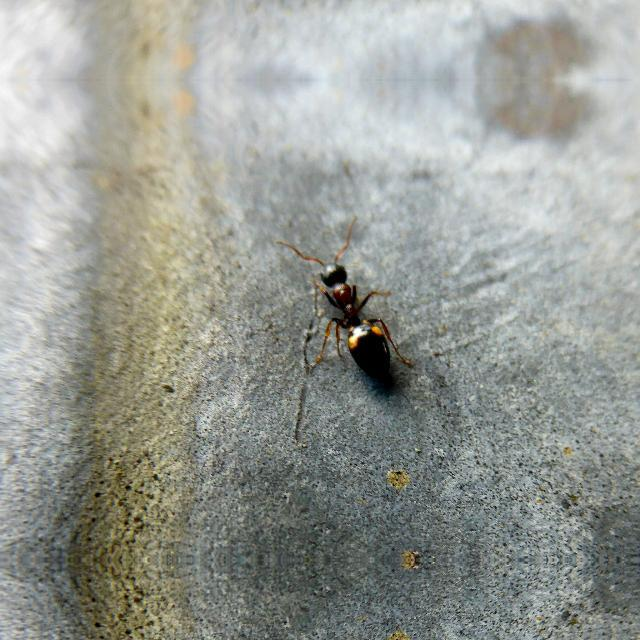Dolichoderus: (278, 230, 416, 382)
